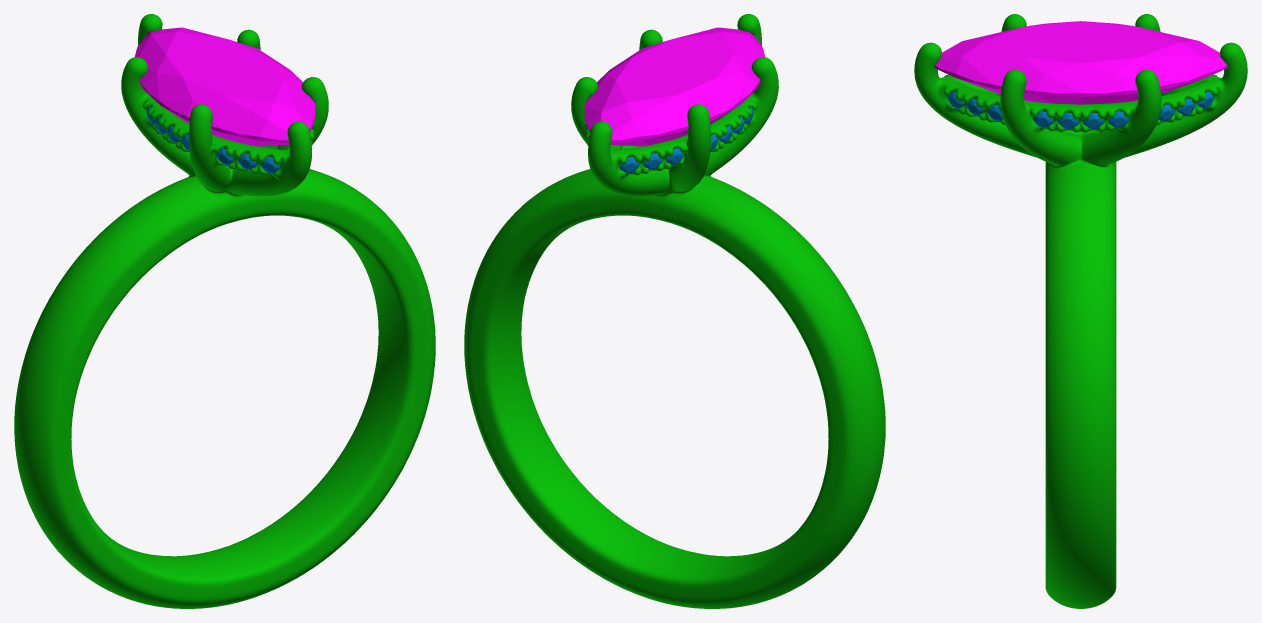
The model's file is BE1D4166_MQ_200ct_RENDER.glb.
3 renders of one model, left to right at view 1: azimuth 30°, elevation 25°; view 2: azimuth 150°, elevation 25°; view 3: azimuth 270°, elevation 25°, orthographic. The views are drawn at different scales.
Parts seen in each view (by area): view 1: Metal 01, CS_Diamond_Marquise; view 2: Metal 01, CS_Diamond_Marquise; view 3: Metal 01, CS_Diamond_Marquise.
Part boxes in pixels (x1=…): Metal 01: x1=14, y1=14, x2=435, y2=608; CS_Diamond_Marquise: x1=135, y1=27, x2=315, y2=146; Metal 01: x1=464, y1=14, x2=885, y2=608; CS_Diamond_Marquise: x1=584, y1=27, x2=764, y2=146; Metal 01: x1=914, y1=14, x2=1247, y2=608; CS_Diamond_Marquise: x1=934, y1=21, x2=1227, y2=104.
Size of the model in its own units: 20.5 by 25.5 by 14.16.
